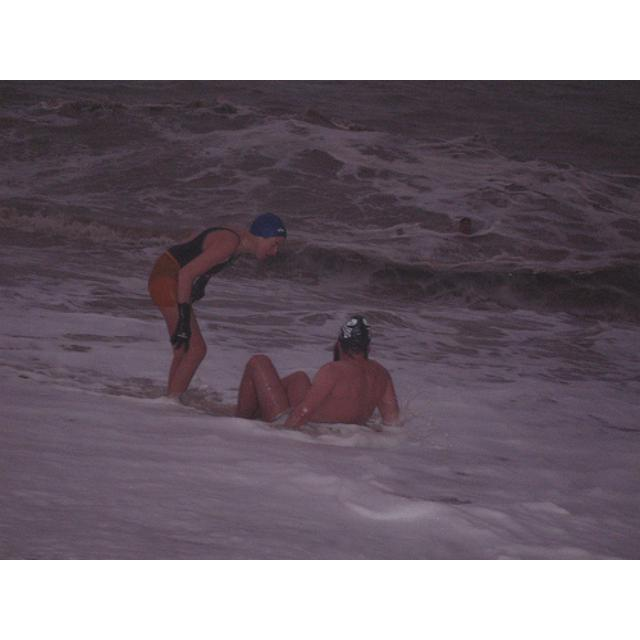human: (148, 217, 288, 407), (224, 317, 403, 430)
